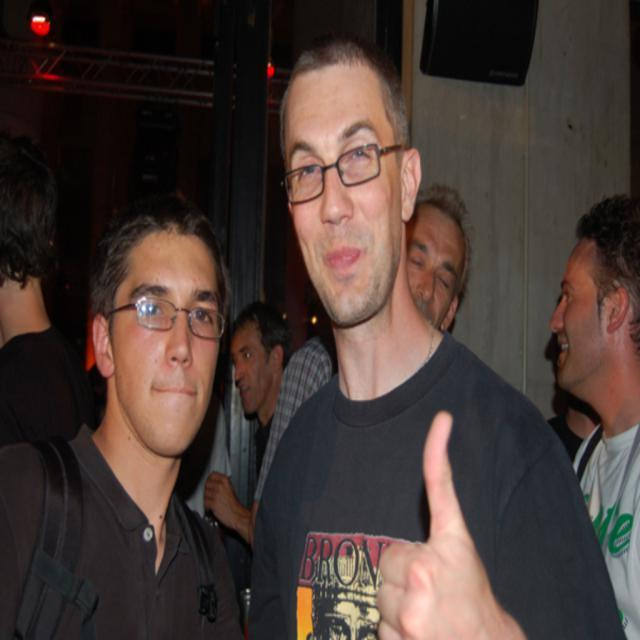closed-mouth: (158, 375, 196, 404), (323, 242, 363, 269), (239, 386, 249, 402)
